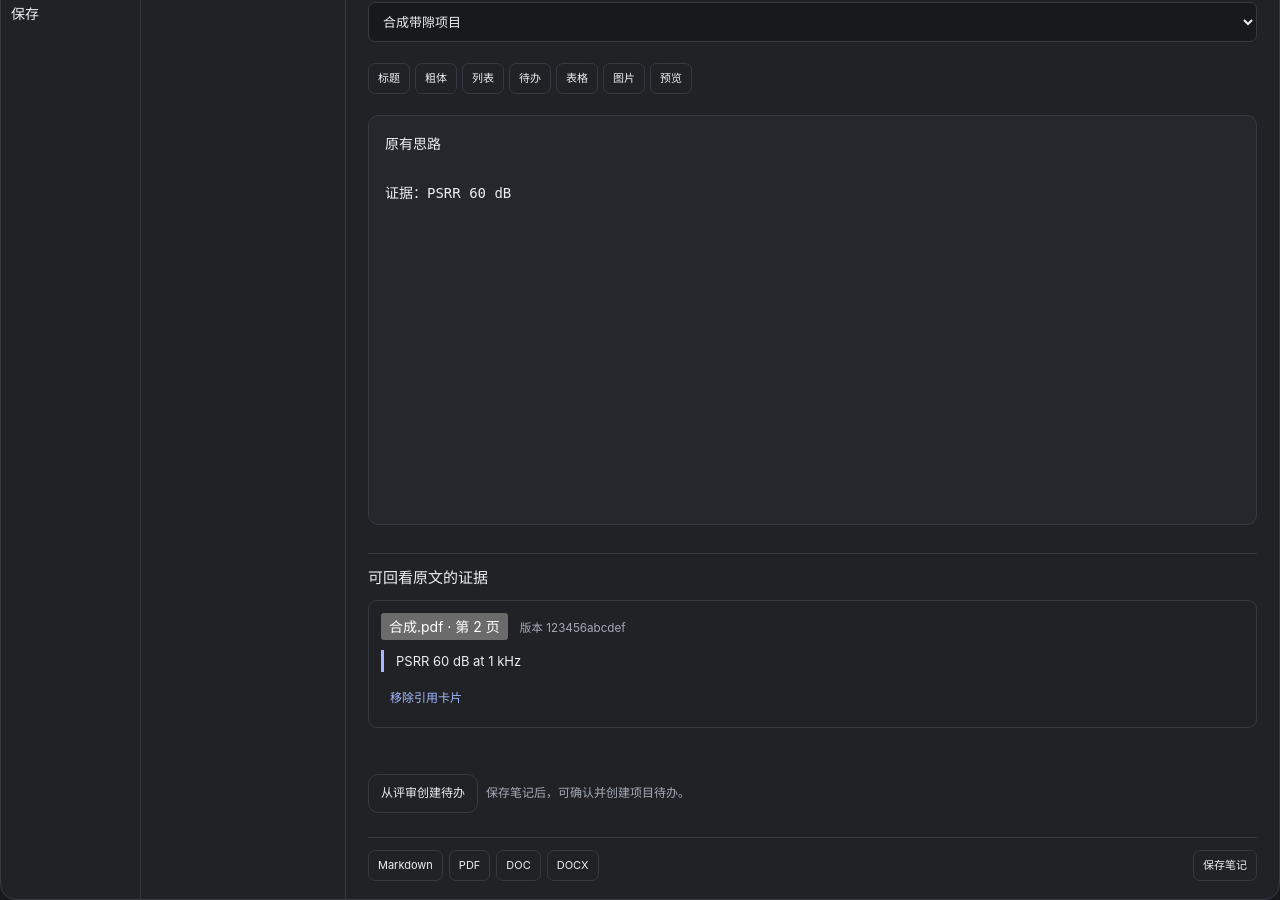
Scenario: appends evidence without replacing a draft, saves project association, and creates a task only after confirmation
The width and height of the screenshot is (1280, 900).
(page scrolled)
Expected: the dropdown named "笔记关联项目" shows "合成带隙项目", [368,2,1257,42]
Click the button "保存笔记" at (1225, 865), box [1193,850,1257,881]
(page scrolled)
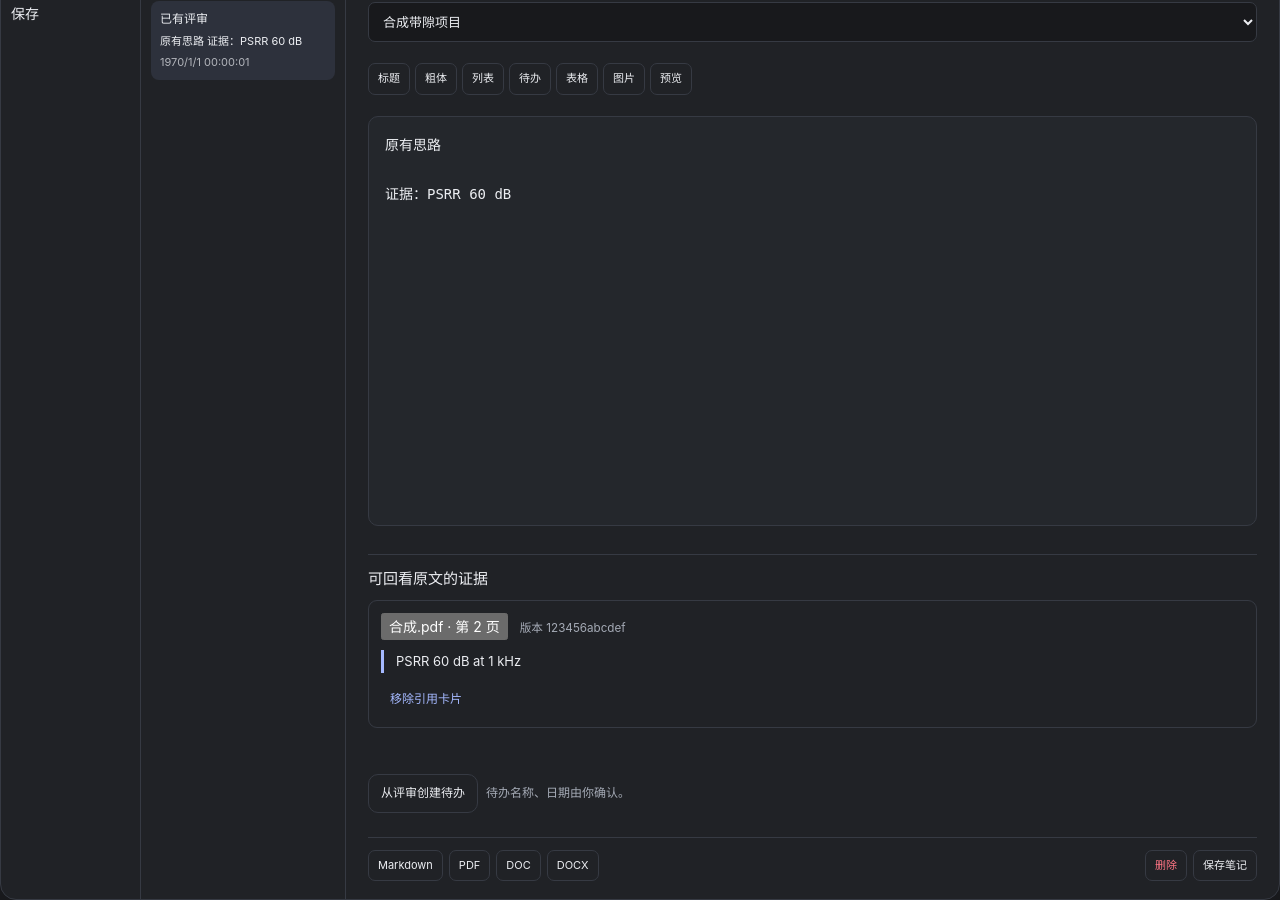
Click the button "从评审创建待办" at (423, 793), box [368,774,478,813]
(page scrolled)
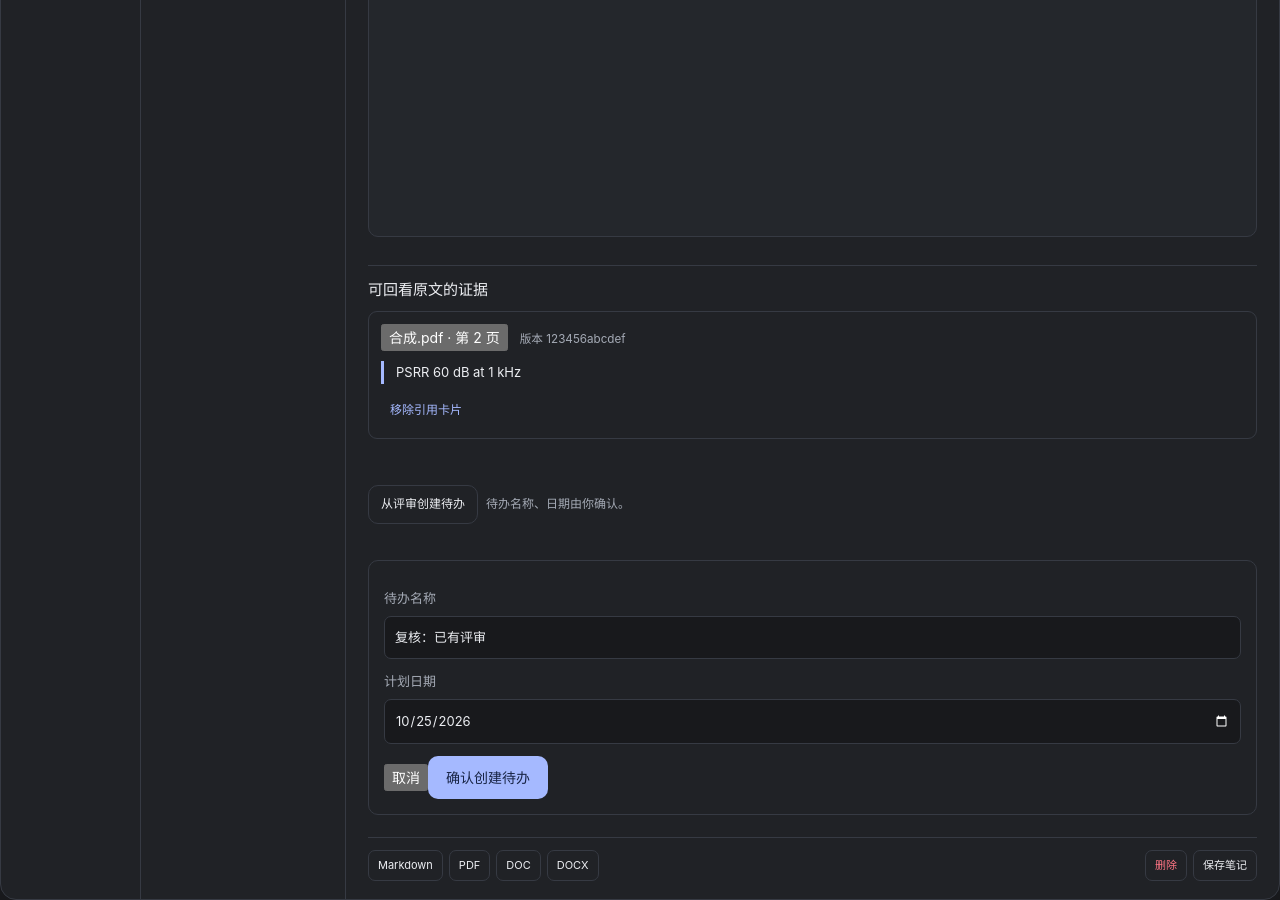
Replace the text in the field labelled "待办名称" with "复核 PSRR 的测量条件" at (812, 637), box [384,616,1241,659]
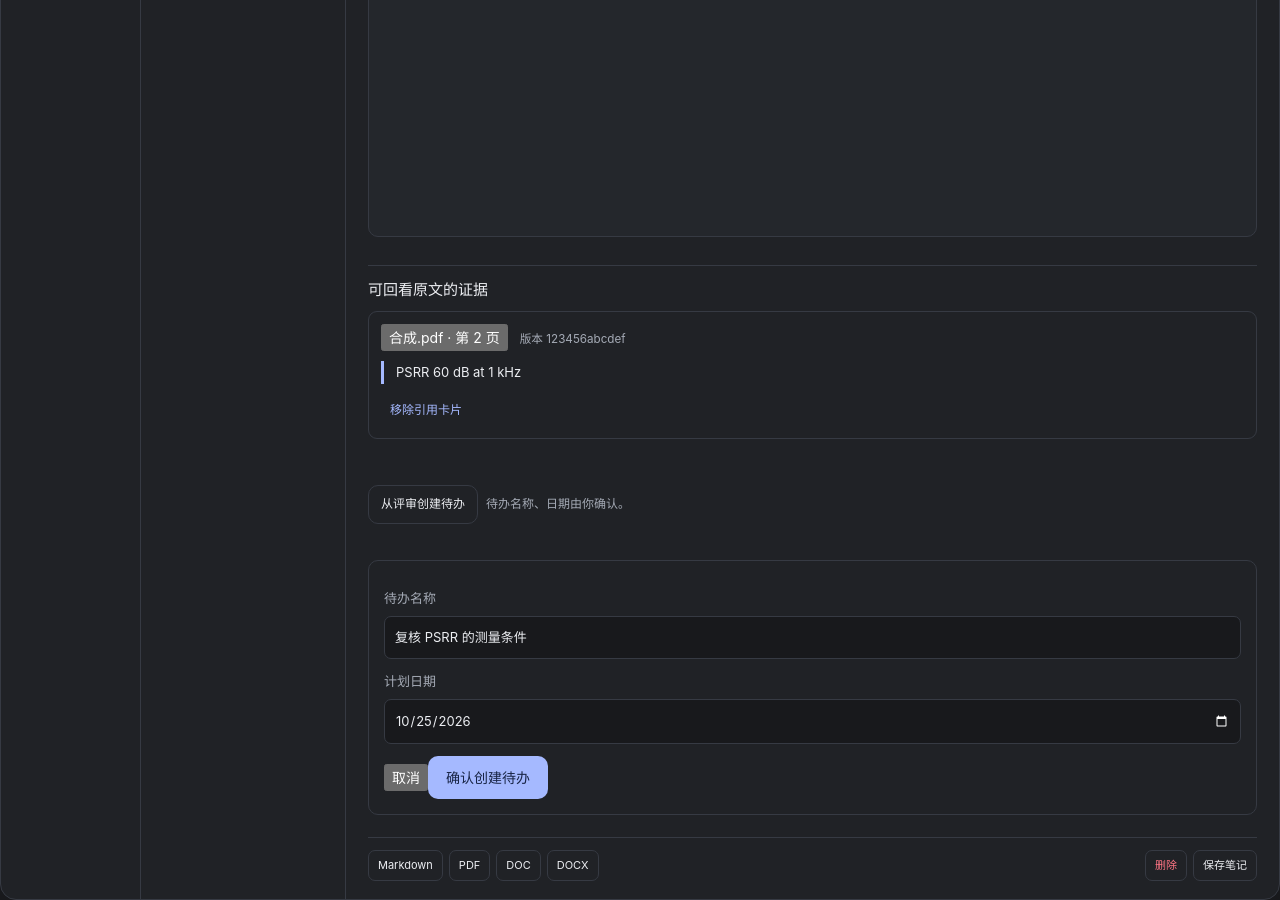
Click the button "确认创建待办" at (488, 777), box [428,756,548,799]
(page scrolled)
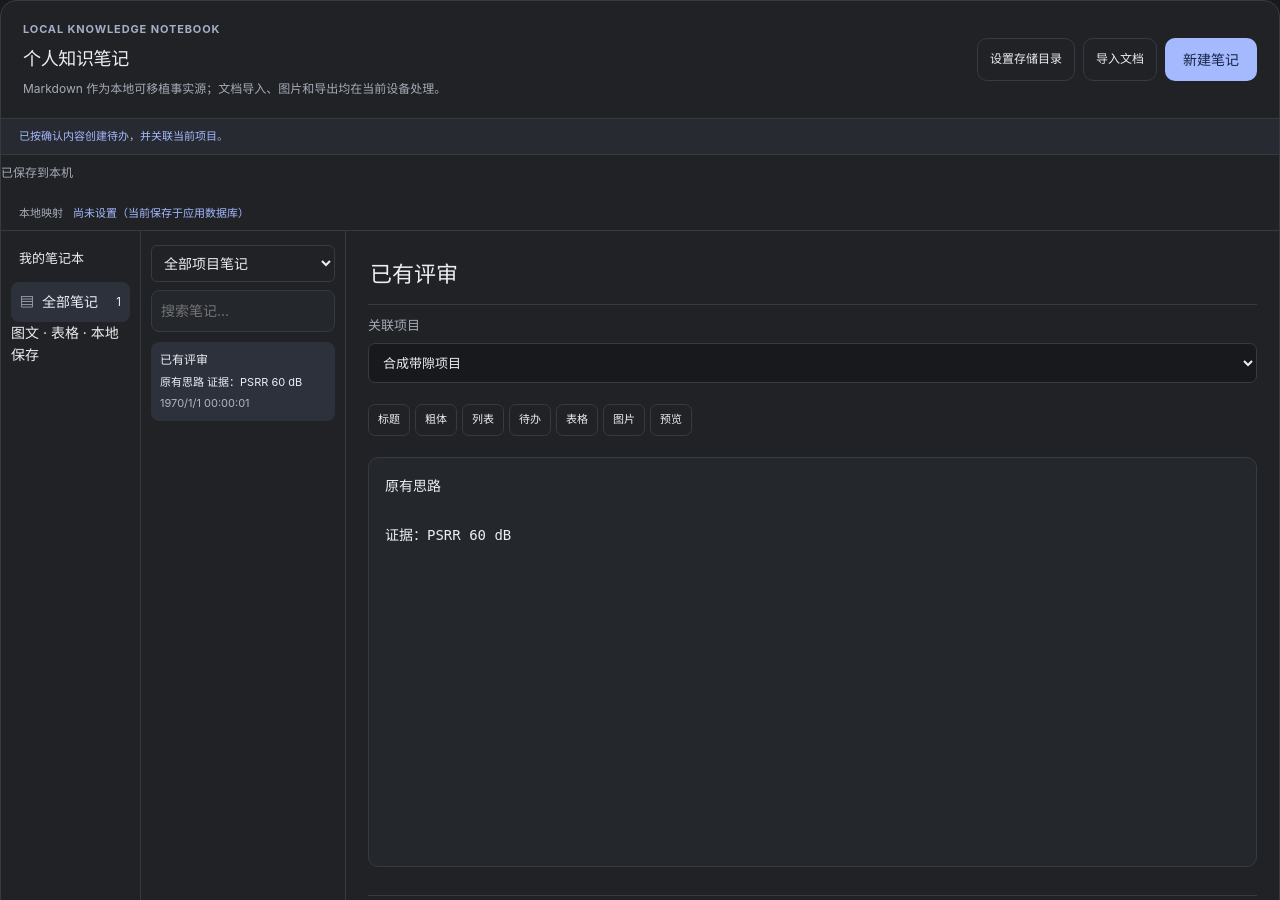
Now the text "已按确认内容创建待办，并关联当前项目。" is shown, box [1,119,1279,155]
